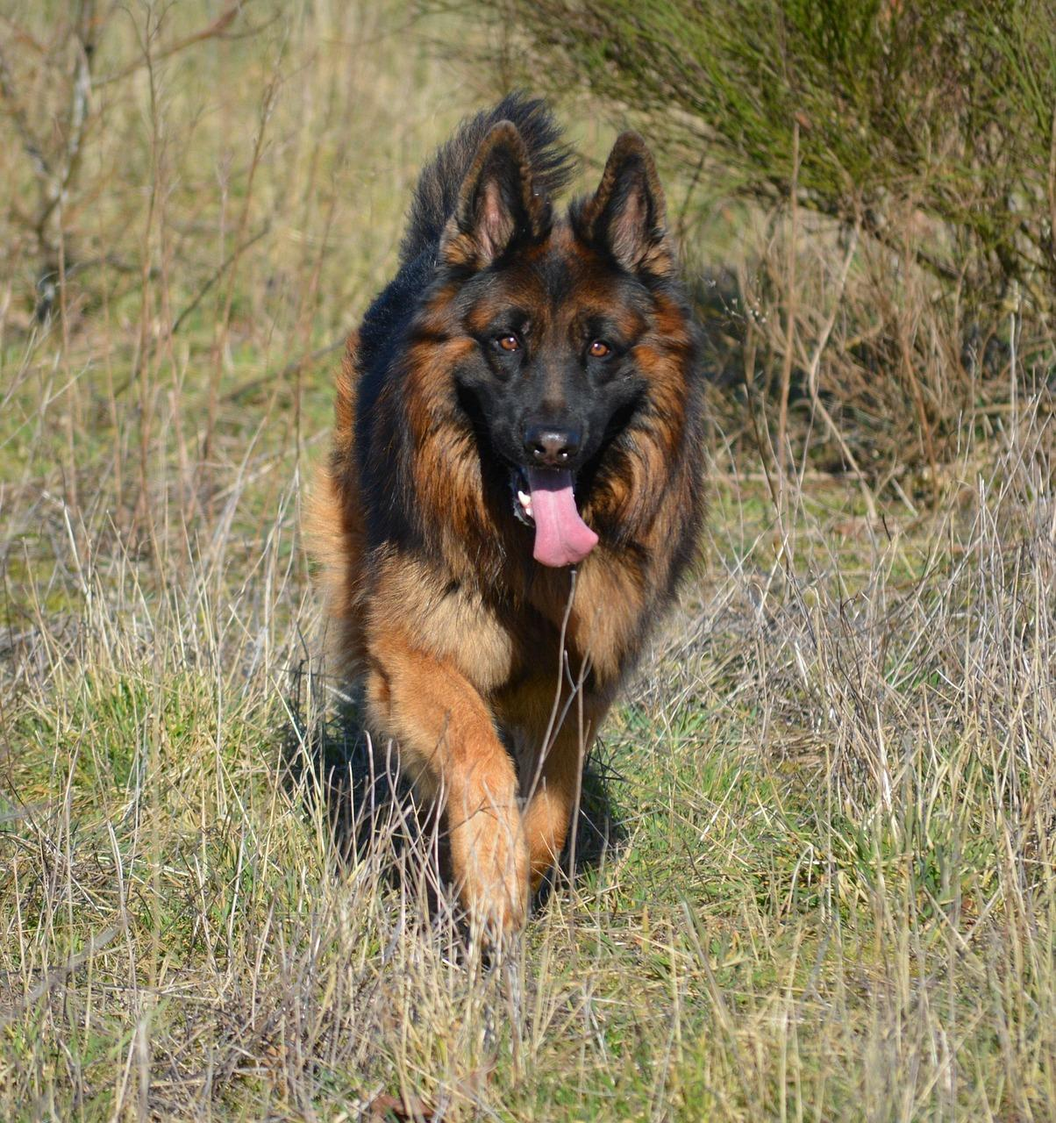german_shepherd: (418, 170, 695, 582)
